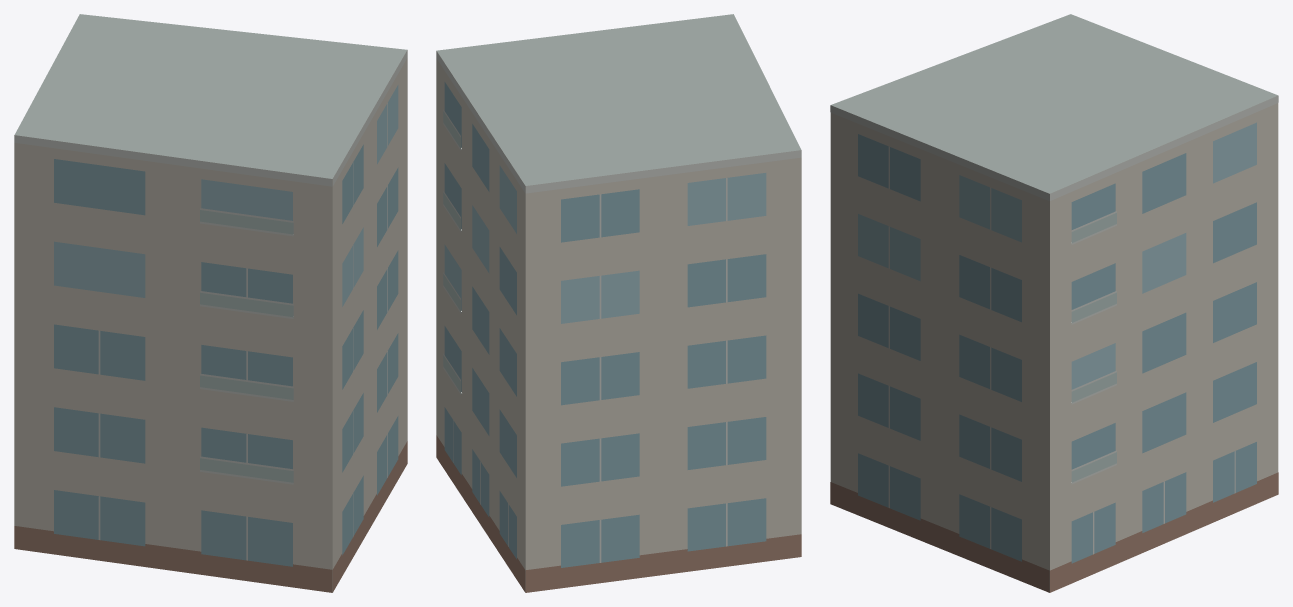
The model's file is survey-upis-32884186.glb.
3 renders of one model, left to right at view 1: azimuth 30°, elevation 25°; view 2: azimuth 150°, elevation 25°; view 3: azimuth 270°, elevation 25°, orthographic. The views are drawn at different scales.
Visible parts, largest first — view 1: survey-upis-32884186.tmp; view 2: survey-upis-32884186.tmp; view 3: survey-upis-32884186.tmp.
Part boxes in pixels (box(x1,y1,x2,y2)): survey-upis-32884186.tmp: box(14, 14, 407, 592); survey-upis-32884186.tmp: box(436, 14, 801, 592); survey-upis-32884186.tmp: box(830, 14, 1278, 592).
Size of the model in its own units: 12.77 by 13.2 by 13.44.
